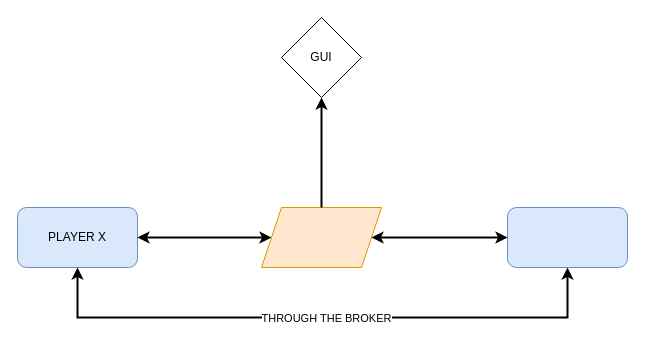
This 645x345 diagram has some shape labels left out. Here are the shapes that lost their labels. From the top down, the centre of each, then its label:
At (x=321, y=237): "BROKER".
At (x=567, y=237): "PLAYER O".
